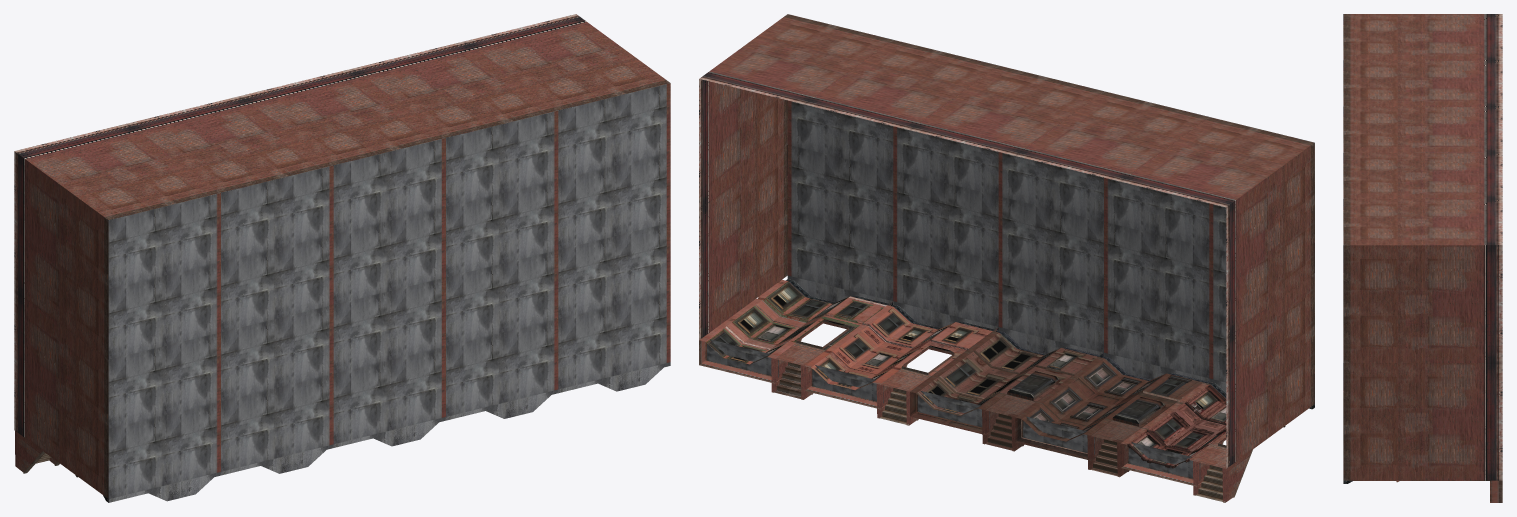
The model's file is row_five_b_hq_lod.glb.
3 views of the same model, side by side, from view 1: azimuth 30°, elevation 25°; view 2: azimuth 150°, elevation 25°; view 3: azimuth 270°, elevation 25° (orthographic). The views are drawn at different scales.
Parts seen in each view (by area): view 1: Brownstone_ClassicComplex_1_Brownstone_Facade_Flr_2_0, Brownstone_ClassicComplex_1_Brownstone_Facade_Flr_1_0; view 2: Brownstone_ClassicComplex_1_Brownstone_Facade_Flr_2_0, Brownstone_ClassicComplex_1_Brownstone_Facade_Flr_1_0; view 3: Brownstone_ClassicComplex_1_Brownstone_Facade_Flr_2_0.
Boxes of the visible parts, <box> form: Brownstone_ClassicComplex_1_Brownstone_Facade_Flr_2_0: <box>14,14,670,502</box>; Brownstone_ClassicComplex_1_Brownstone_Facade_Flr_1_0: <box>221,417,445,475</box>; Brownstone_ClassicComplex_1_Brownstone_Facade_Flr_2_0: <box>699,14,1314,502</box>; Brownstone_ClassicComplex_1_Brownstone_Facade_Flr_1_0: <box>800,320,1224,477</box>; Brownstone_ClassicComplex_1_Brownstone_Facade_Flr_2_0: <box>1343,14,1502,502</box>.
Size of the model in its own units: 31.66 by 17 by 9.22.
2 materials, 2 textured.
